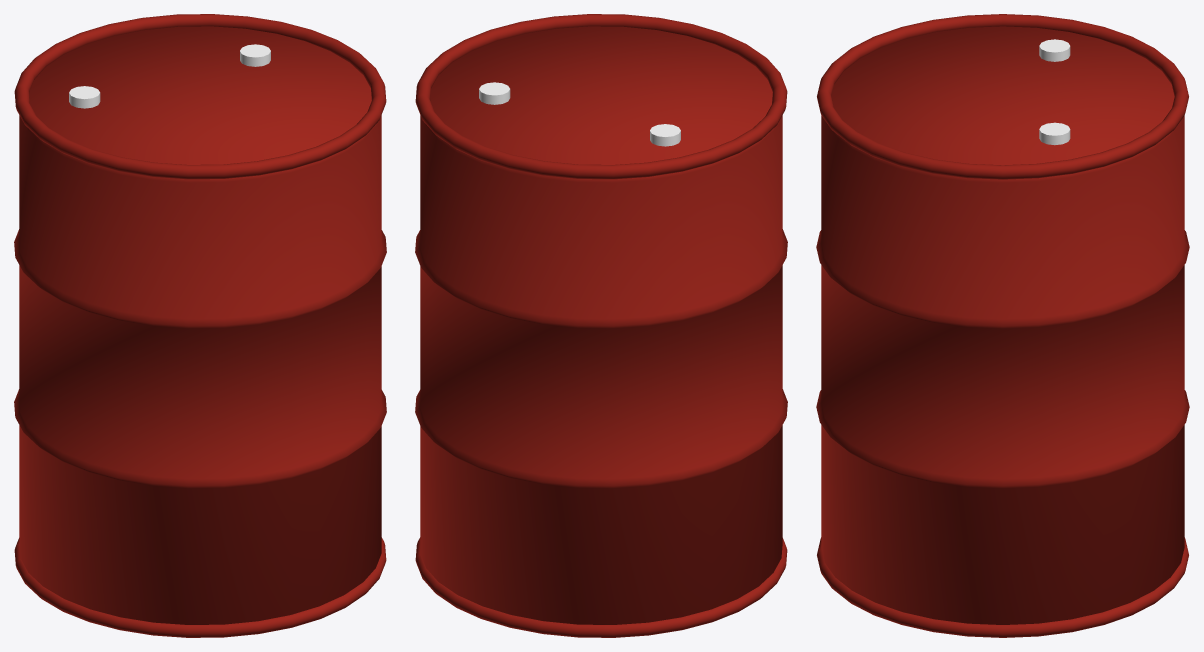
File: drum.glb
The picture shows the model from 3 angles, left to right: view 1: azimuth 30°, elevation 25°; view 2: azimuth 150°, elevation 25°; view 3: azimuth 270°, elevation 25°; orthographic projection.
Visible parts, largest first — view 1: drum_mesh; view 2: drum_mesh; view 3: drum_mesh.
Part boxes in pixels (bbox=[...]): drum_mesh: bbox=[14, 14, 386, 637]; drum_mesh: bbox=[415, 14, 787, 637]; drum_mesh: bbox=[816, 14, 1189, 637].
Bounding box in the file's own units: 0.72 × 1 × 0.72.
